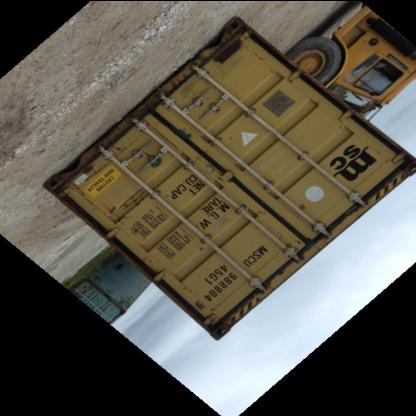Damage: (209, 30, 255, 68), (175, 121, 229, 150), (106, 184, 157, 212), (136, 148, 169, 174), (196, 226, 218, 256), (290, 197, 318, 219)
